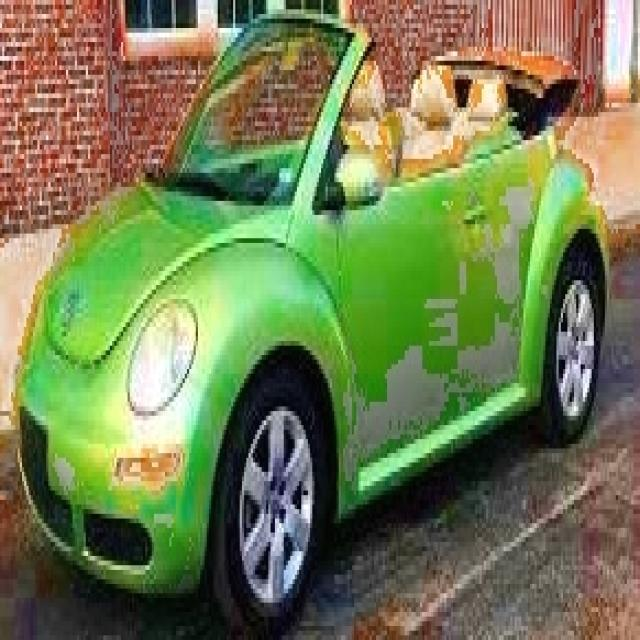green: (17, 9, 610, 636)
